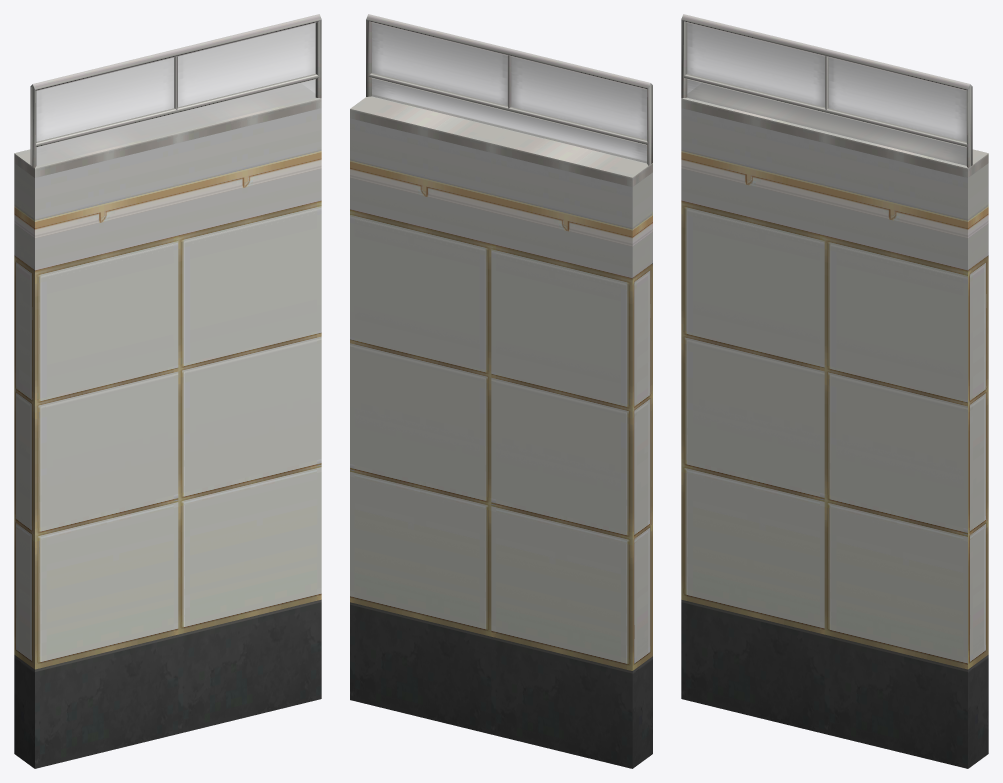
Rendered from my_shoppingmall_01_wall_left_1x2.glb.
The picture shows the model from 3 angles, left to right: view 1: azimuth 30°, elevation 25°; view 2: azimuth 150°, elevation 25°; view 3: azimuth 330°, elevation 25°; orthographic projection.
Visible parts, largest first — view 1: my_shoppingmall_01_wall_left_1x2; view 2: my_shoppingmall_01_wall_left_1x2; view 3: my_shoppingmall_01_wall_left_1x2.
Part boxes in pixels (x1,y1,x2,y2): my_shoppingmall_01_wall_left_1x2: (14, 14, 321, 768); my_shoppingmall_01_wall_left_1x2: (350, 14, 652, 768); my_shoppingmall_01_wall_left_1x2: (681, 14, 988, 768).
Bounding box in the file's own units: 0.024 × 0.0546 × 0.003.
Materials: 2 (2 with a texture image).
